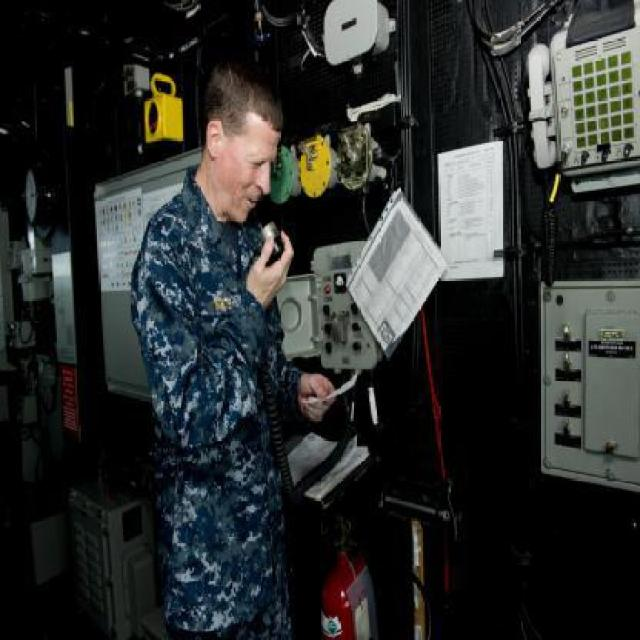Person: (126, 75, 329, 639)
